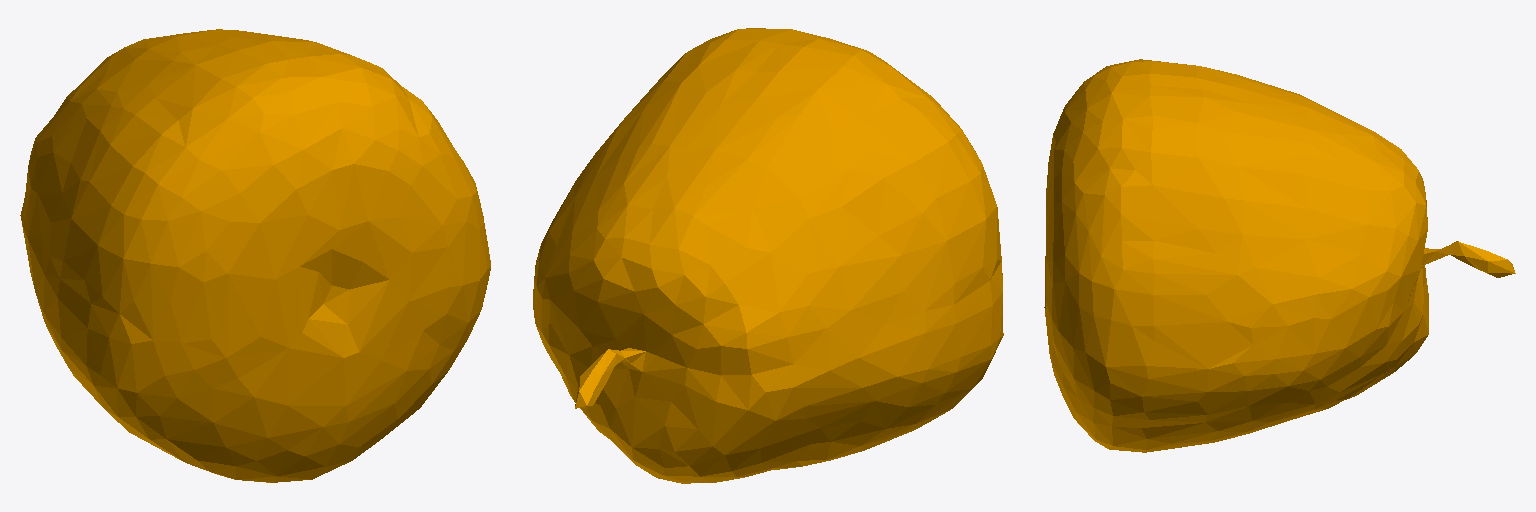
robot.urdf — pumpkin_poisson_000:
<?xml version="1.0"?>
<robot name="pumpkin_poisson_000">
  <link name="base_link">
    <contact>
      <lateral_friction value="1.0"/>
      <rolling_friction value="0.0"/>
      <contact_cfm value="0.0"/>
      <contact_erp value="1.0"/>
    </contact>
    <inertial>
      <mass value="0.835475500941"/>
      <inertia ixx="1" ixy="0" ixz="0" iyy="1" iyz="0" izz="1"/>
    </inertial>
    <visual>
      <geometry>
        <mesh filename="pumpkin_poisson_000_visual.obj"/>
      </geometry>
    </visual>
    <collision>
      <geometry>
        <mesh filename="pumpkin_poisson_000_collision.obj"/>
      </geometry>
    </collision>
  </link>
</robot>

--- Render facts (derived) ---
3 views of the same robot in one strip: view 1: azimuth 30°, elevation 25°; view 2: azimuth 150°, elevation 25°; view 3: azimuth 270°, elevation 25° (orthographic).
Model pumpkin_poisson_000 with 1 links and 0 joints (none), rooted at base_link, posed all joints at 0.
Links seen in each view (by area): view 1: base_link; view 2: base_link; view 3: base_link.
Link boxes in pixels (x1,y1,x2,y2): base_link: (20, 29, 490, 482); base_link: (533, 28, 1003, 483); base_link: (1044, 59, 1515, 452).
Size in the robot's own frame: 0.07 by 0.0824 by 0.0691 metres.
Meshes: 1 distinct files referenced, 1 mesh visuals loaded (1 OBJ).